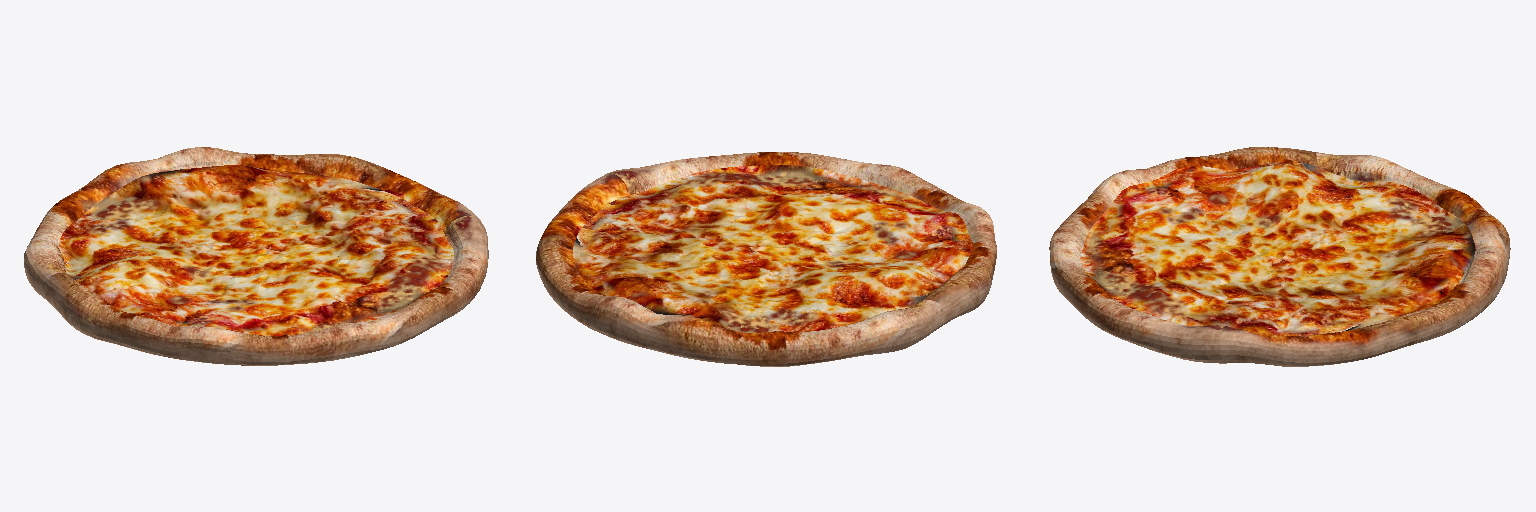
3 renders of one model, left to right at view 1: azimuth 30°, elevation 25°; view 2: azimuth 150°, elevation 25°; view 3: azimuth 270°, elevation 25°, orthographic.
Parts seen in each view (by area): view 1: obj1; view 2: obj1; view 3: obj1.
Boxes of the visible parts, box(x1,y1,x2,y2) form: obj1: box(24, 147, 488, 365); obj1: box(536, 152, 996, 366); obj1: box(1049, 147, 1510, 366).
Bounding box in the file's own units: 11.02 × 1.11 × 10.99.
Materials: 1 (1 with a texture image).